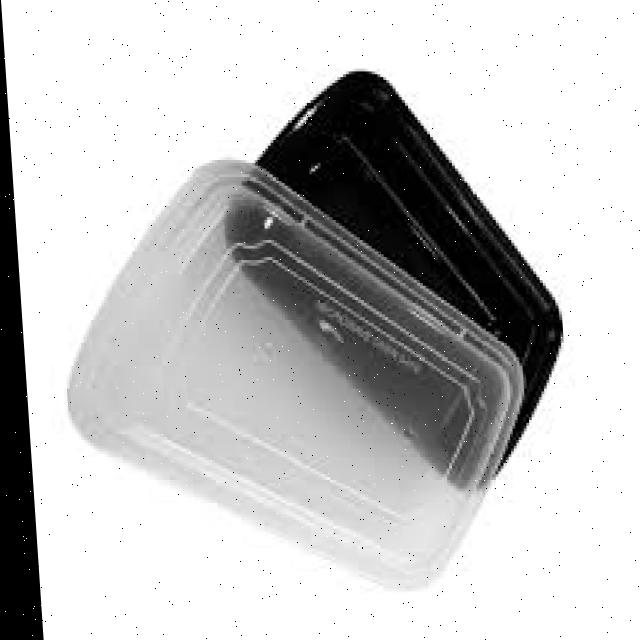disposable: (209, 86, 588, 496)
